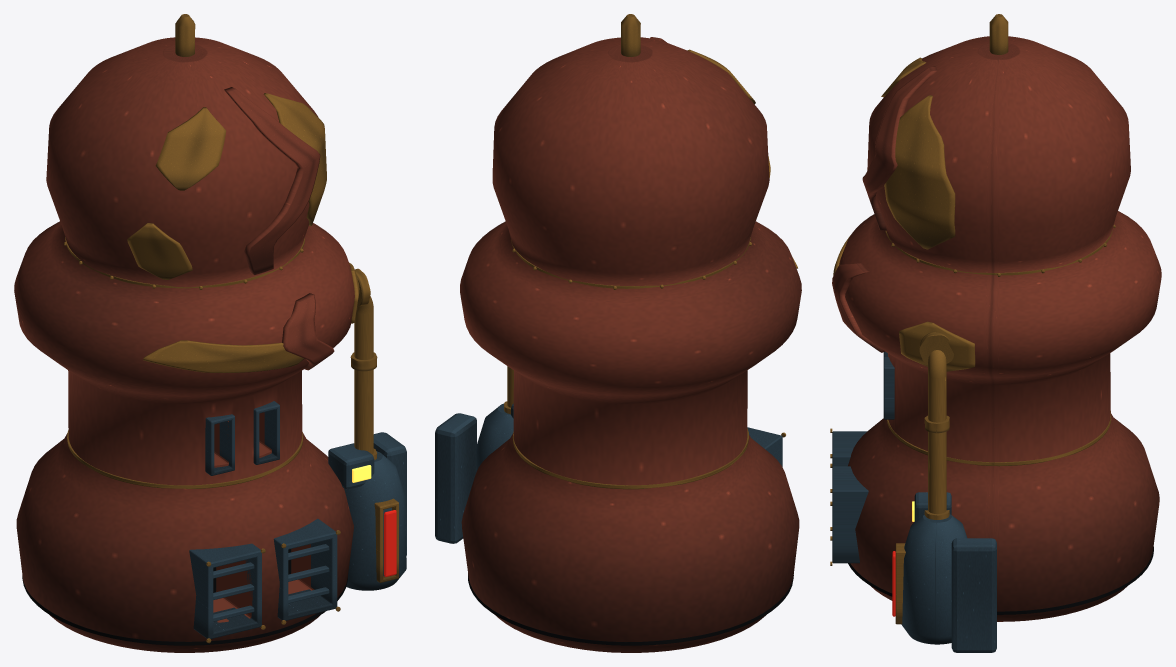
3 views of the same model, side by side, from view 1: azimuth 30°, elevation 25°; view 2: azimuth 150°, elevation 25°; view 3: azimuth 270°, elevation 25° (orthographic). The views are drawn at different scales.
Visible parts, largest first — view 1: AC05 tiered main casing, AC05 curved upper casting, AC05 side service module, AC05 base grille rim 0, AC05 base grille rim 1, AC05 middle brass sweep, AC05 upper left brass, AC05 brass service pipe, AC05 upper right brass, AC05 upper lower-left brass, AC05 middle raised casting, AC05 waist panel rim 0 (+9 smaller); view 2: AC05 tiered main casing, AC05 side module back rib, AC05 base seam, AC05 side service module, AC05 waist collar, AC05 small brass finial, AC05 base grille rim 0, AC05 cap seat; view 3: AC05 tiered main casing, AC05 upper right brass, AC05 side service module, AC05 side module back rib, AC05 brass service pipe, AC05 curved upper casting, AC05 base grille rim 1, AC05 middle right brass, AC05 middle raised casting, AC05 waist collar, AC05 base seam, AC05 base grille rim 0 (+5 smaller).
Boxes of the visible parts, x1,y1,x2,y2 form: AC05 tiered main casing: (14,37,354,652); AC05 curved upper casting: (224,87,320,274); AC05 side service module: (344,451,406,590); AC05 base grille rim 0: (189,543,261,638); AC05 base grille rim 1: (273,518,337,620); AC05 middle brass sweep: (143,340,304,372); AC05 upper left brass: (155,107,226,190); AC05 brass service pipe: (354,296,373,454); AC05 upper right brass: (263,93,326,225); AC05 upper lower-left brass: (127,223,192,279); AC05 middle raised casting: (282,293,334,370); AC05 waist panel rim 0: (205,414,234,475); AC05 tiered main casing: (460,37,801,652); AC05 side module back rib: (435,413,476,543); AC05 base seam: (468,573,793,645); AC05 side service module: (476,403,513,472); AC05 waist collar: (512,428,748,489); AC05 small brass finial: (621,14,640,56); AC05 base grille rim 0: (747,427,782,466); AC05 cap seat: (511,237,750,288); AC05 tiered main casing: (839,36,1161,621); AC05 upper right brass: (884,95,955,249); AC05 side service module: (901,514,967,644); AC05 side module back rib: (951,538,996,652); AC05 brass service pipe: (928,350,946,513); AC05 curved upper casting: (862,66,937,230); AC05 base grille rim 1: (832,466,868,563); AC05 middle right brass: (899,321,975,371); AC05 middle raised casting: (832,263,885,352); AC05 waist collar: (887,411,1111,466); AC05 base seam: (848,547,1153,614); AC05 base grille rim 0: (832,431,866,466).
Bounding box in the file's own units: 1.85 × 2.93 × 1.61.
6 materials, 4 textured.
